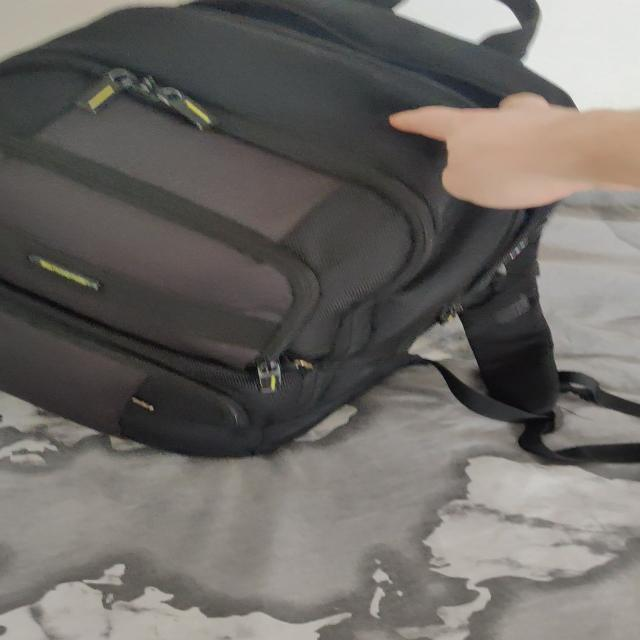backpack: (0, 0, 591, 469)
